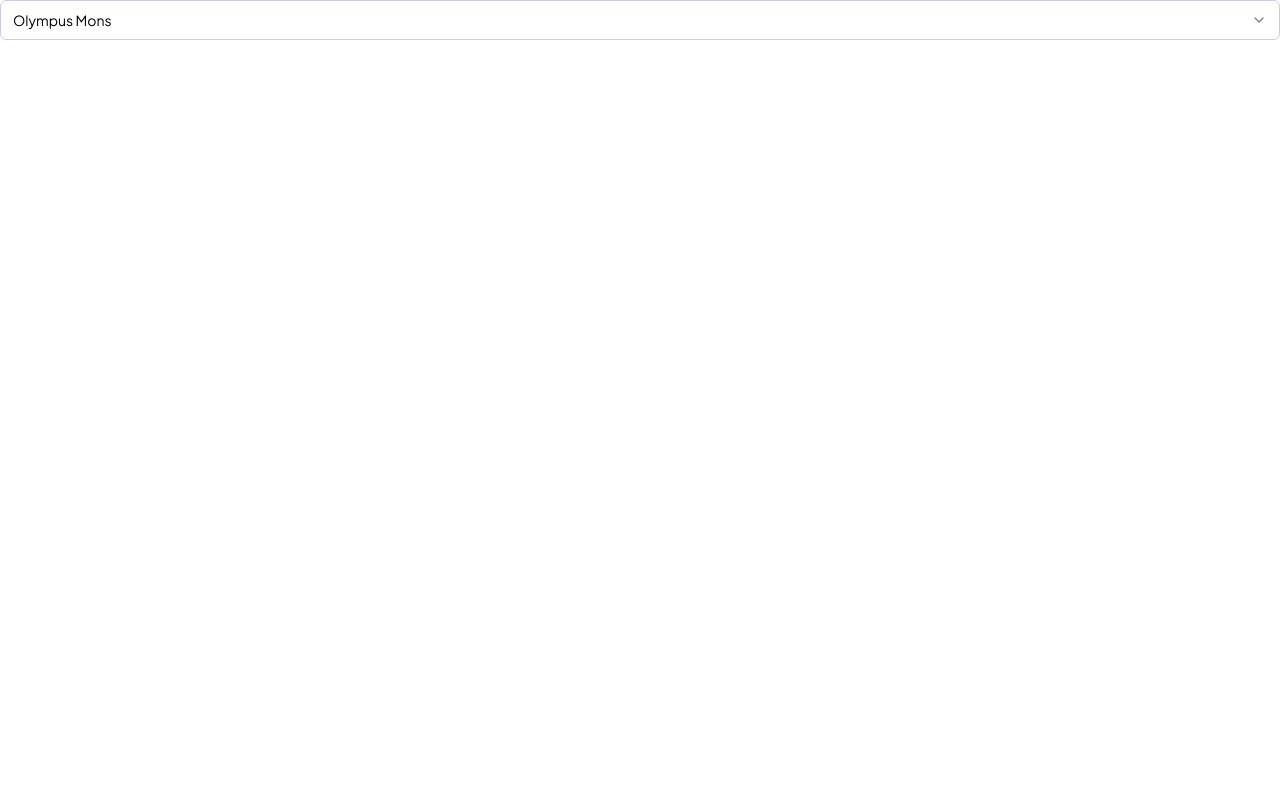
Test: TimezoneSelect › keeps a saved zone that is not in the list as a selectable option
Step 1. Click the dropdown named "Send timezone" → (62, 20), box [0,0,1279,40]
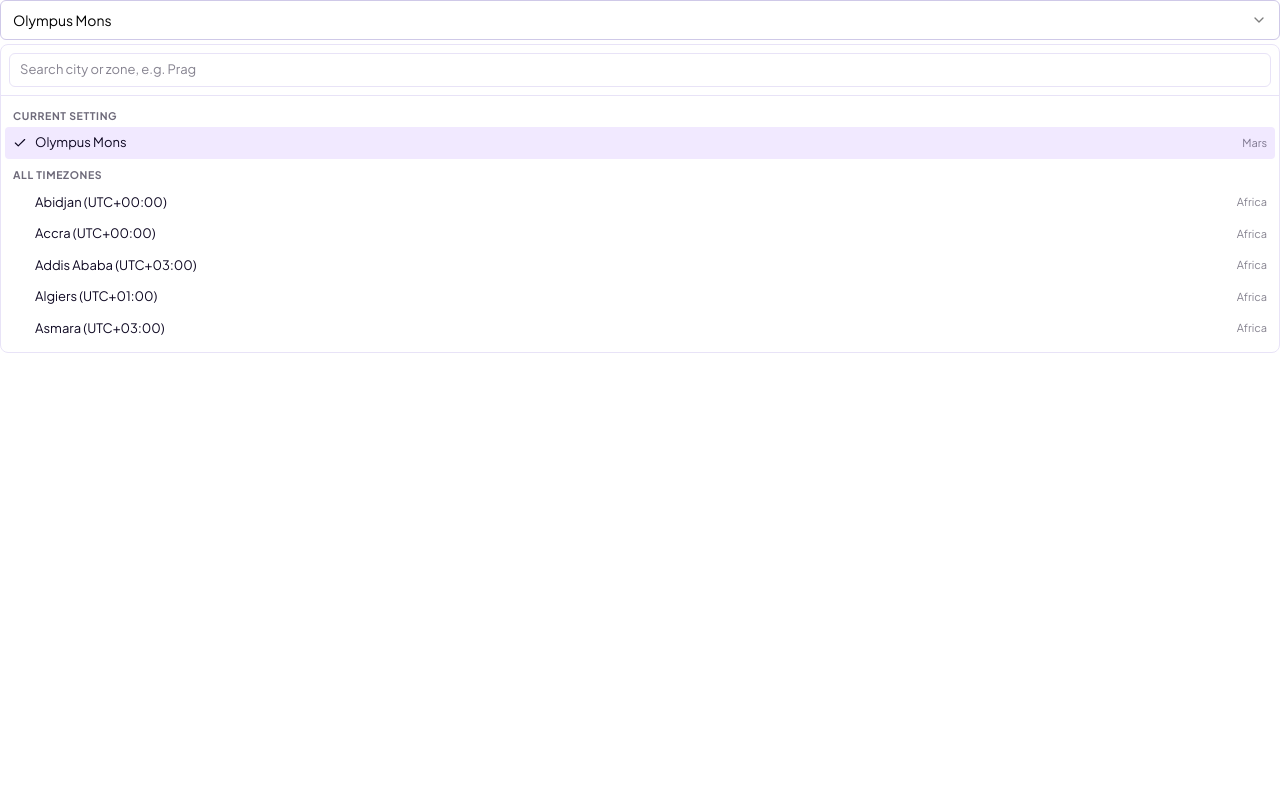
Expected: the text "Current setting" is shown, [13,108,117,122]
Expected: the option "Olympus Mons Mars" is shown, [5,127,1275,159]
